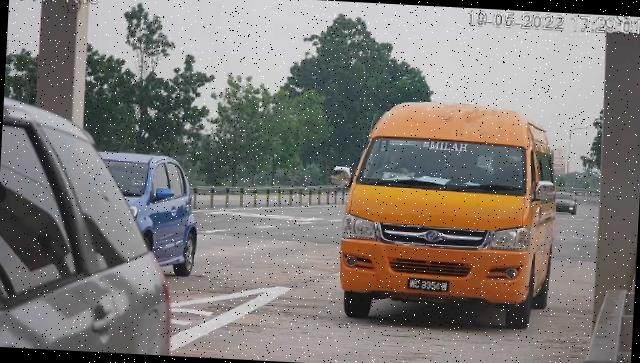License_Plate: (406, 277, 452, 298)
van: (340, 100, 562, 333)
